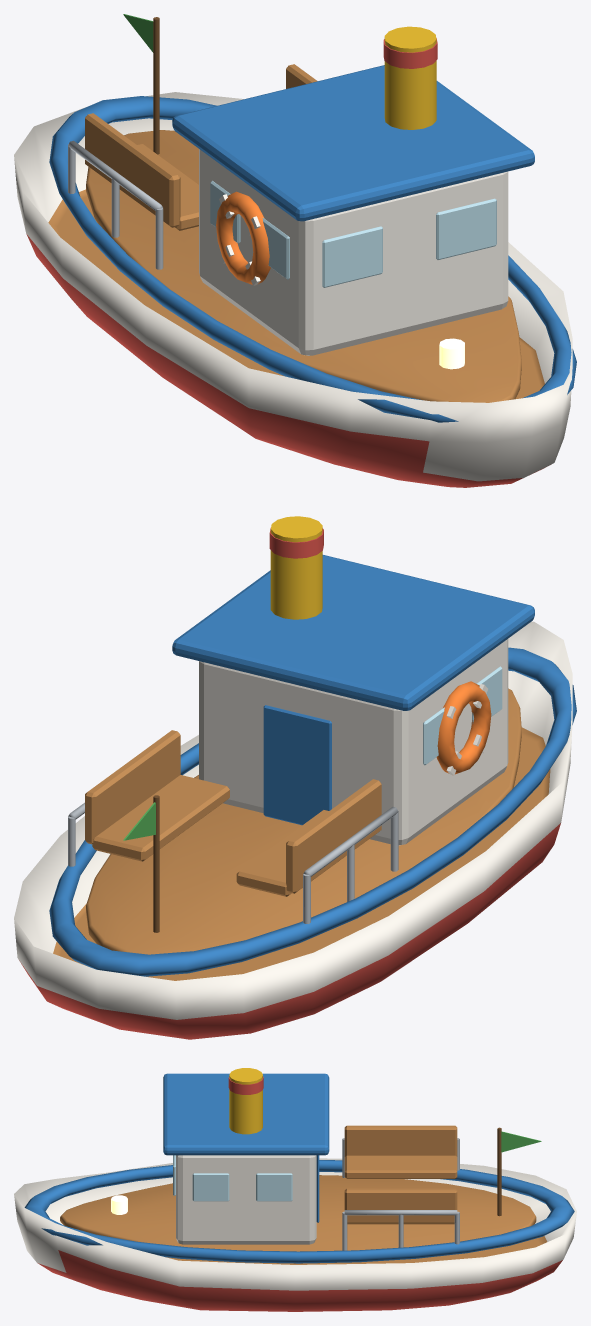
The model's file is barco.glb.
3 renders of one model, top to bottom at view 1: azimuth 30°, elevation 25°; view 2: azimuth 150°, elevation 25°; view 3: azimuth 270°, elevation 25°, orthographic. The views are drawn at different scales.
Visible parts, largest first — view 1: barco; view 2: barco; view 3: barco.
Boxes of the visible parts, x1,y1,x2,y2 form: barco: [14, 14, 576, 487]; barco: [14, 516, 576, 1039]; barco: [14, 1068, 576, 1311].
Size of the model in its own units: 1.8 by 1.76 by 4.
